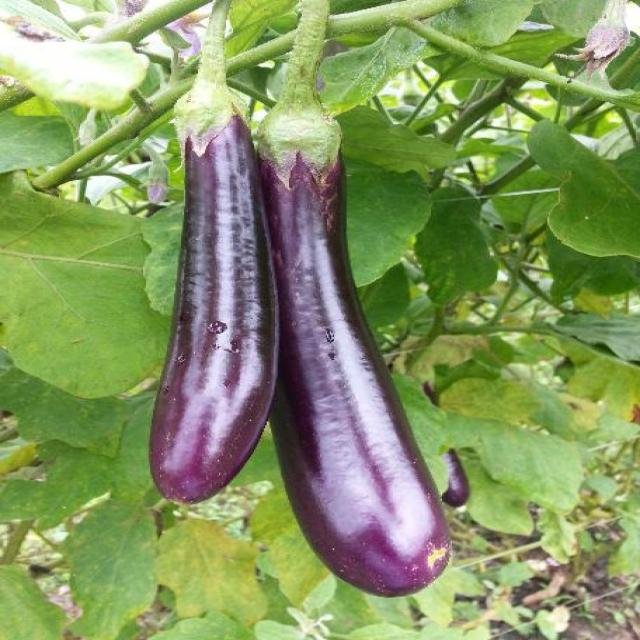eggplant: (146, 70, 282, 512)
